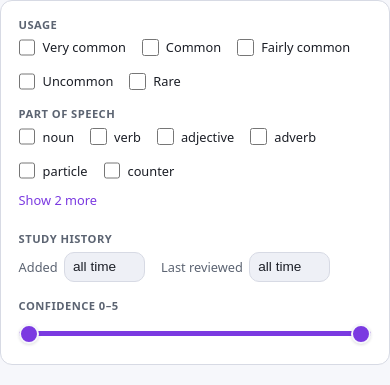
Test case: FilterPanel — part-of-speech, collapsed on a phone › shows everything once expanded, and can collapse again
The image size is (390, 385).
Click the button "Show 2 more" at [58, 200], box [19,185,97,215]
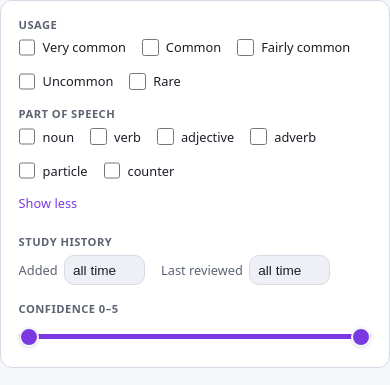
Check: the button "Show less" is expanded
Click the button "Show less" at [48, 203], box [19,188,77,218]
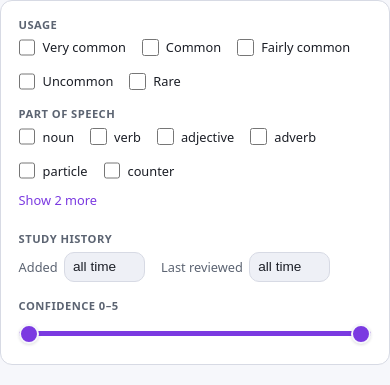
Check: the element with class "filtermenu__checks--clamped" is shown, box [19,128,316,180]
Check: the button "Show 2 more" is shown, box [19,185,97,215]
